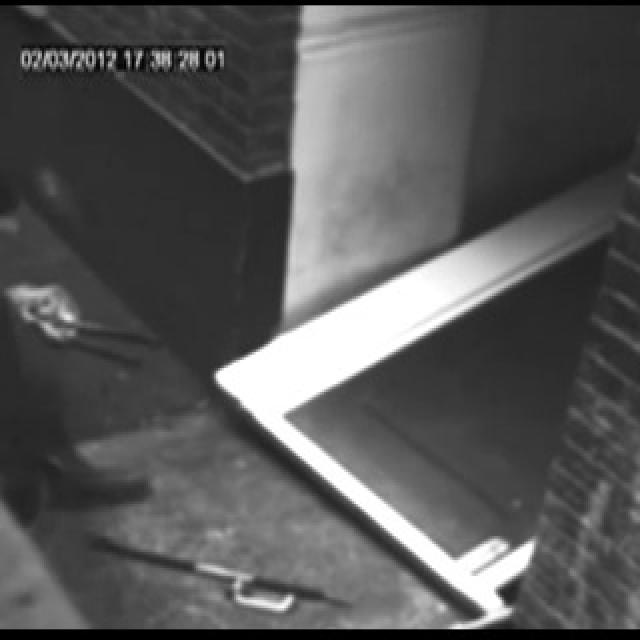burglary: (219, 149, 640, 632)
